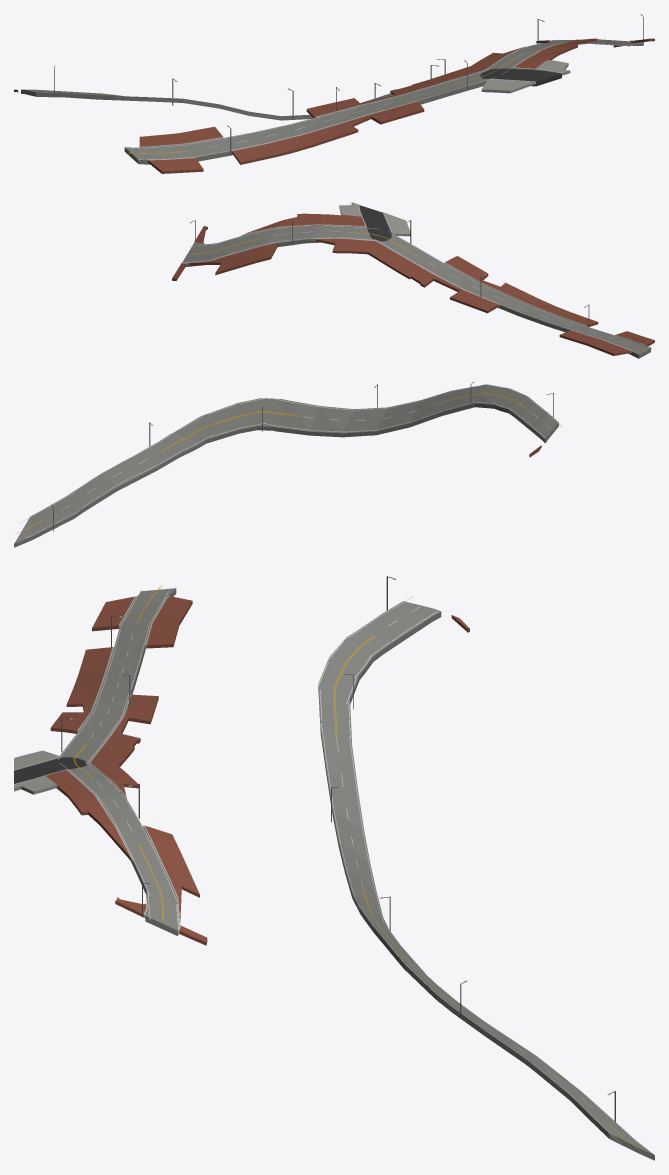
3 renders of one model, top to bottom at view 1: azimuth 30°, elevation 25°; view 2: azimuth 150°, elevation 25°; view 3: azimuth 270°, elevation 25°, orthographic. The views are drawn at different scales.
Bounding box in the file's own units: 151 × 67.76 × 126.
